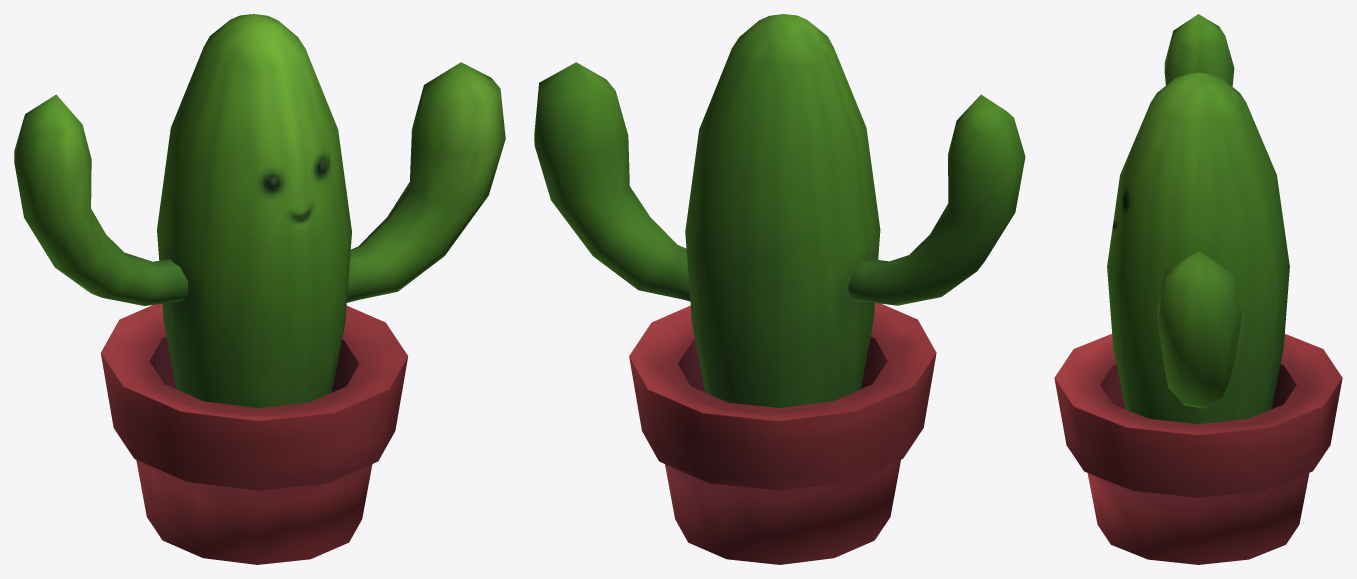
Rendered from cactus_Aixa.fbx.
3 views of the same model, side by side, from view 1: azimuth 30°, elevation 25°; view 2: azimuth 150°, elevation 25°; view 3: azimuth 270°, elevation 25° (orthographic). The views are drawn at different scales.
Visible parts, largest first — view 1: Cactus; view 2: Cactus; view 3: Cactus.
Boxes of the visible parts, x1,y1,x2,y2 form: Cactus: (14,14,505,564); Cactus: (534,14,1025,564); Cactus: (1054,14,1342,564).
Bounding box in the file's own units: 50 × 50 × 28.91.
1 material, 1 textured.
